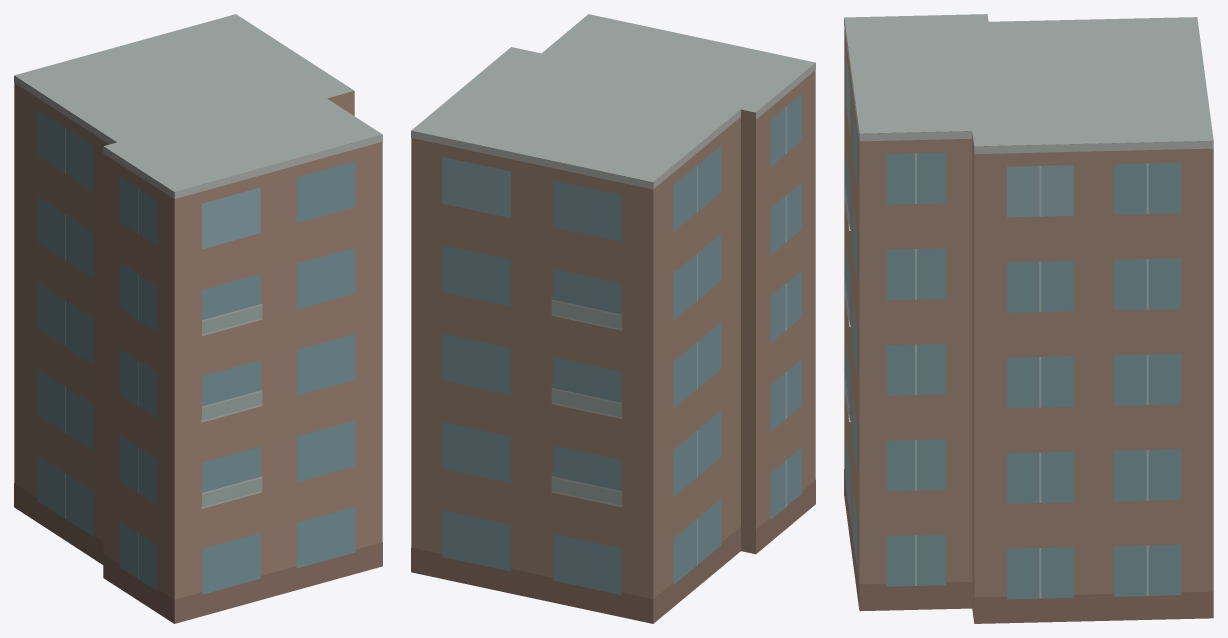
Rendered from survey-upis-32615861.glb.
The picture shows the model from 3 angles, left to right: view 1: azimuth 30°, elevation 25°; view 2: azimuth 150°, elevation 25°; view 3: azimuth 270°, elevation 25°; orthographic projection. The views are drawn at different scales.
Parts seen in each view (by area): view 1: survey-upis-32615861.tmp; view 2: survey-upis-32615861.tmp; view 3: survey-upis-32615861.tmp.
Boxes of the visible parts, x1,y1,x2,y2 form: survey-upis-32615861.tmp: [14, 14, 382, 623]; survey-upis-32615861.tmp: [411, 14, 815, 623]; survey-upis-32615861.tmp: [844, 14, 1213, 623].
Size of the model in its own units: 8.81 by 14.8 by 10.39.
